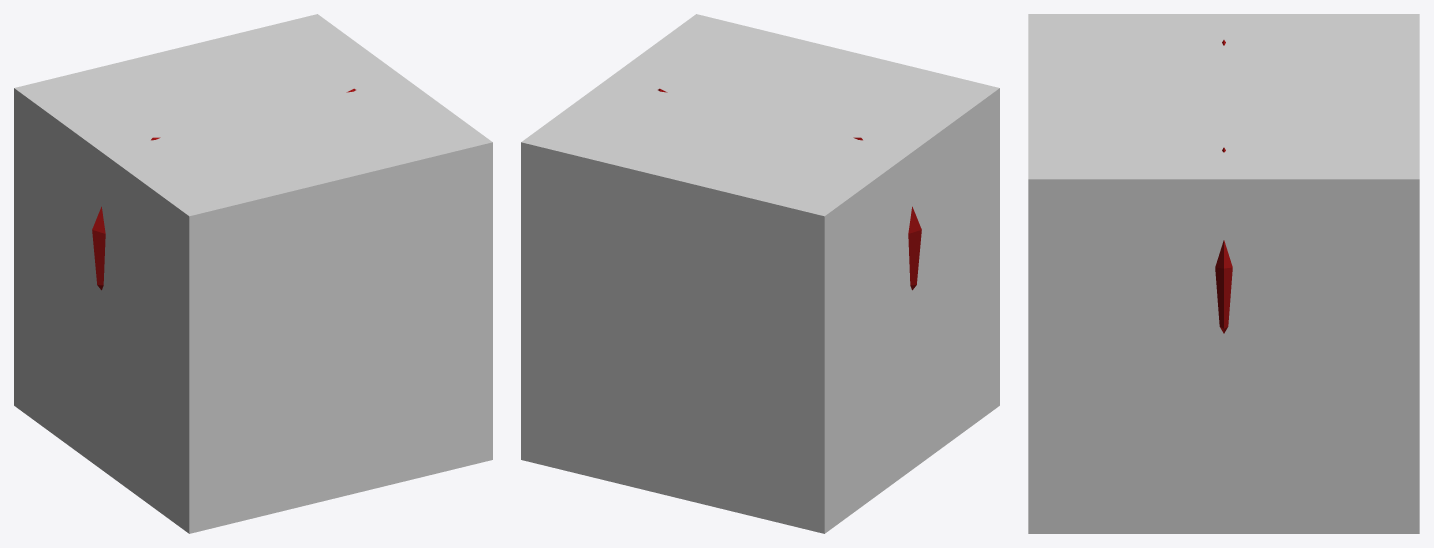
The model's file is heart.gltf.
3 renders of one model, left to right at view 1: azimuth 30°, elevation 25°; view 2: azimuth 150°, elevation 25°; view 3: azimuth 270°, elevation 25°, orthographic. The views are drawn at different scales.
Parts seen in each view (by area): view 1: COL, Heart_Up; view 2: COL, Heart_Up; view 3: COL, Heart_Up.
Boxes of the visible parts, x1,y1,x2,y2 form: COL: (14, 14, 492, 533); Heart_Up: (92, 88, 355, 290); COL: (521, 14, 999, 533); Heart_Up: (658, 88, 921, 290); COL: (1028, 14, 1419, 533); Heart_Up: (1215, 40, 1232, 333).
Size of the model in its own units: 1.02 by 0.9742 by 0.96.
1 material, 1 textured.
